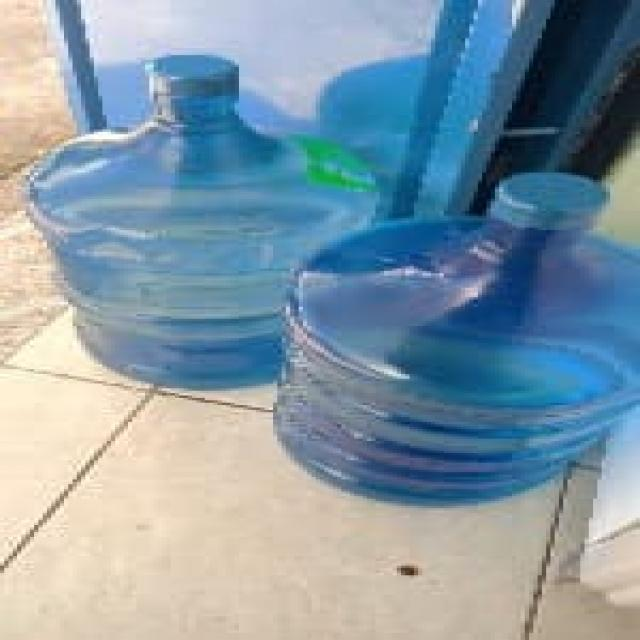HDPE Plastic: (270, 166, 640, 510), (20, 49, 384, 397)
